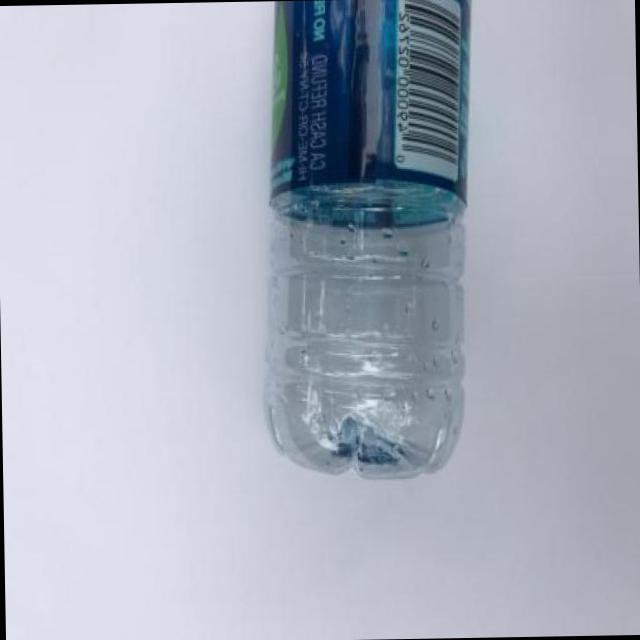plastic_bottle: (255, 0, 480, 482)
